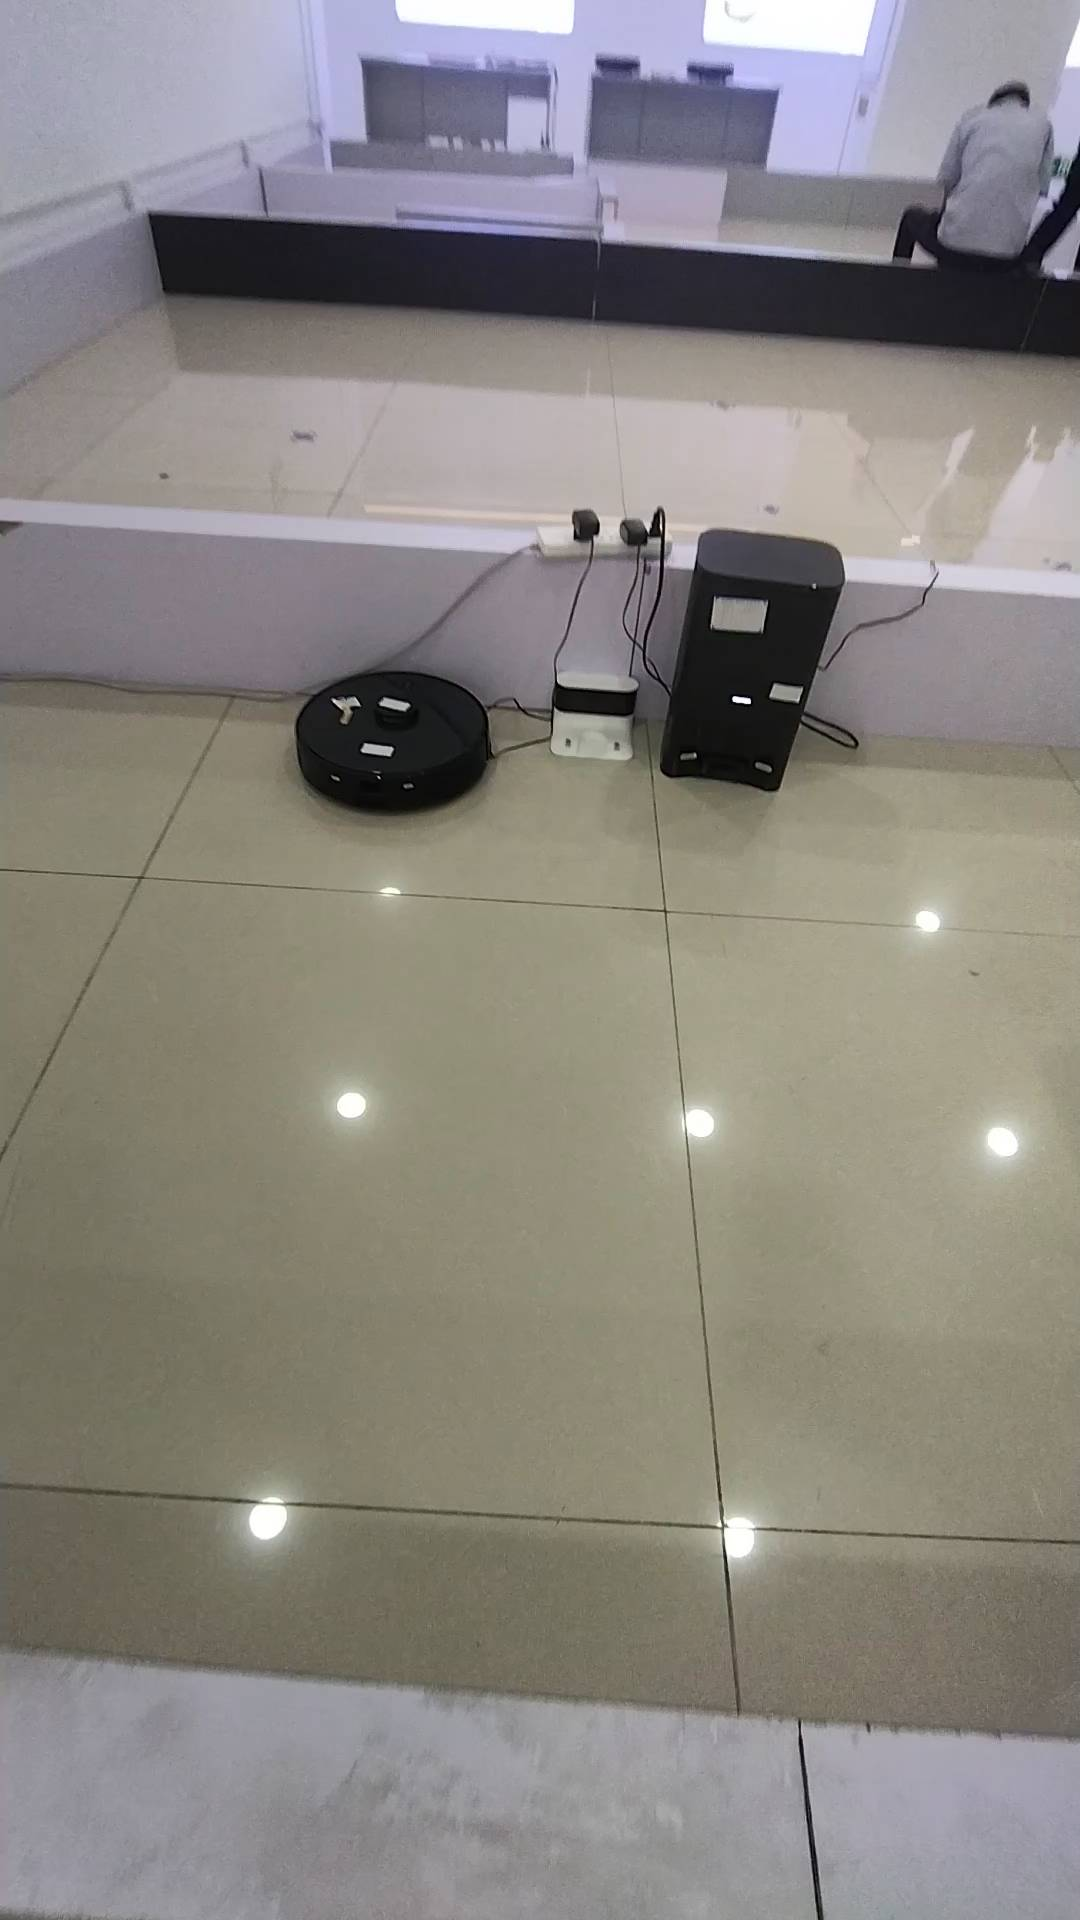dust collecting barrel: (657, 527, 848, 795)
recharge seat: (546, 667, 646, 764)
